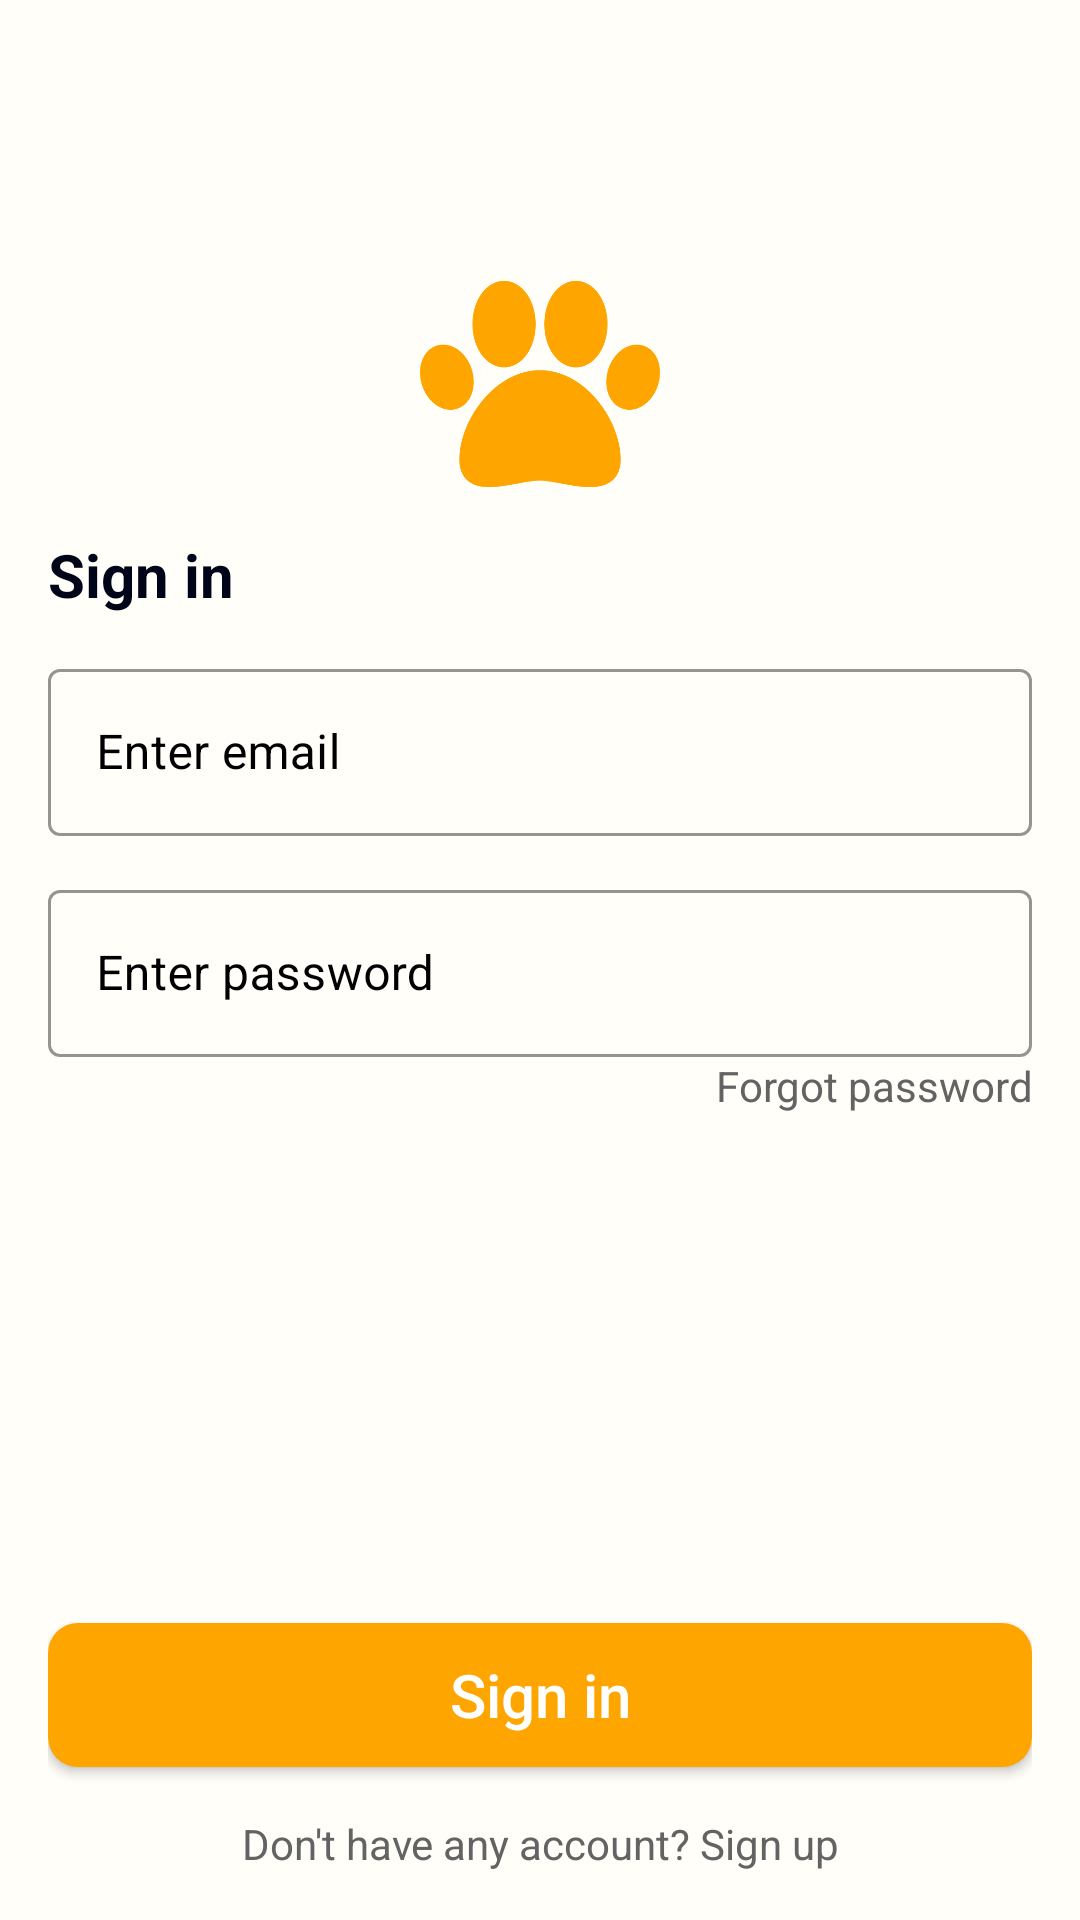

Point at icon controls on the screen. Image size 1080*1920, points as [x,y].
paw: [540,384]
